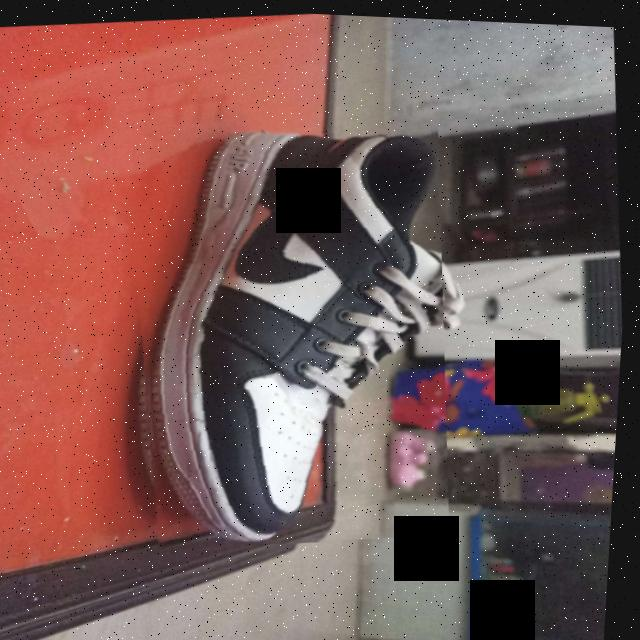shoe: (107, 106, 475, 560)
